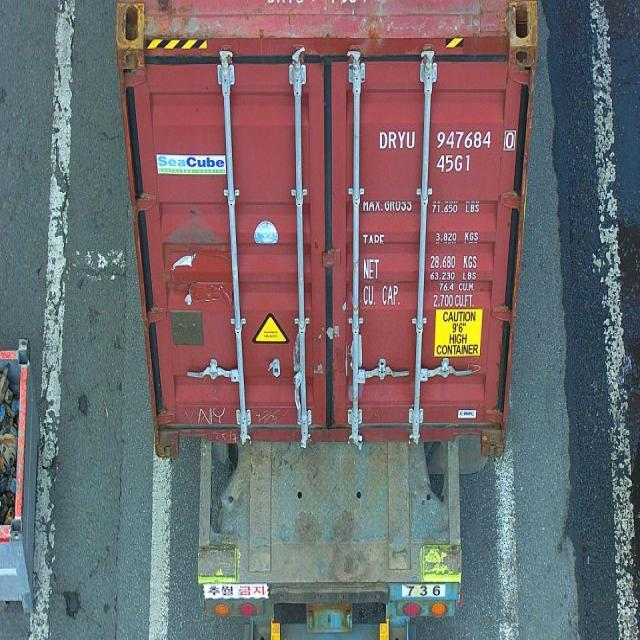ISO: (437, 152, 472, 172)
container_number: (377, 128, 514, 150)
